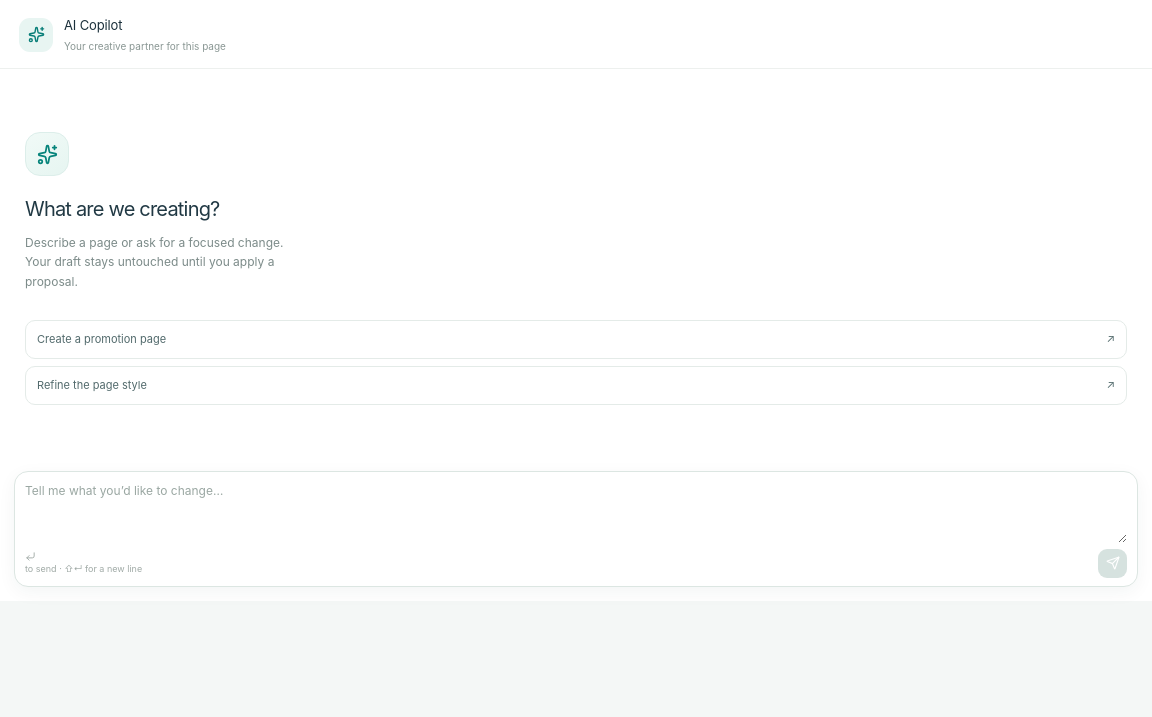
it: Copilot multi-request lifecycle › starts from the editor when a previous proposal was discarded=true
Type "First" into the text box named "Describe the page or change you want" at (576, 512), box [25,482,1127,542]
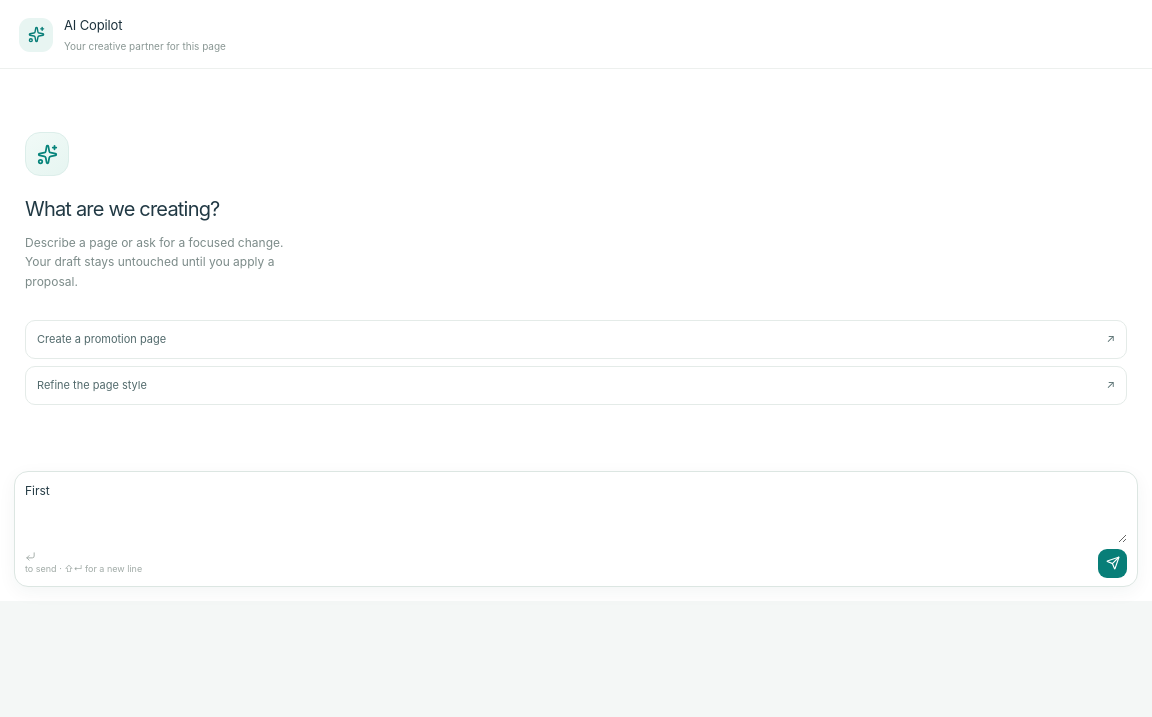
Click the button named "Send message" at (1112, 563), box [1098,548,1127,578]
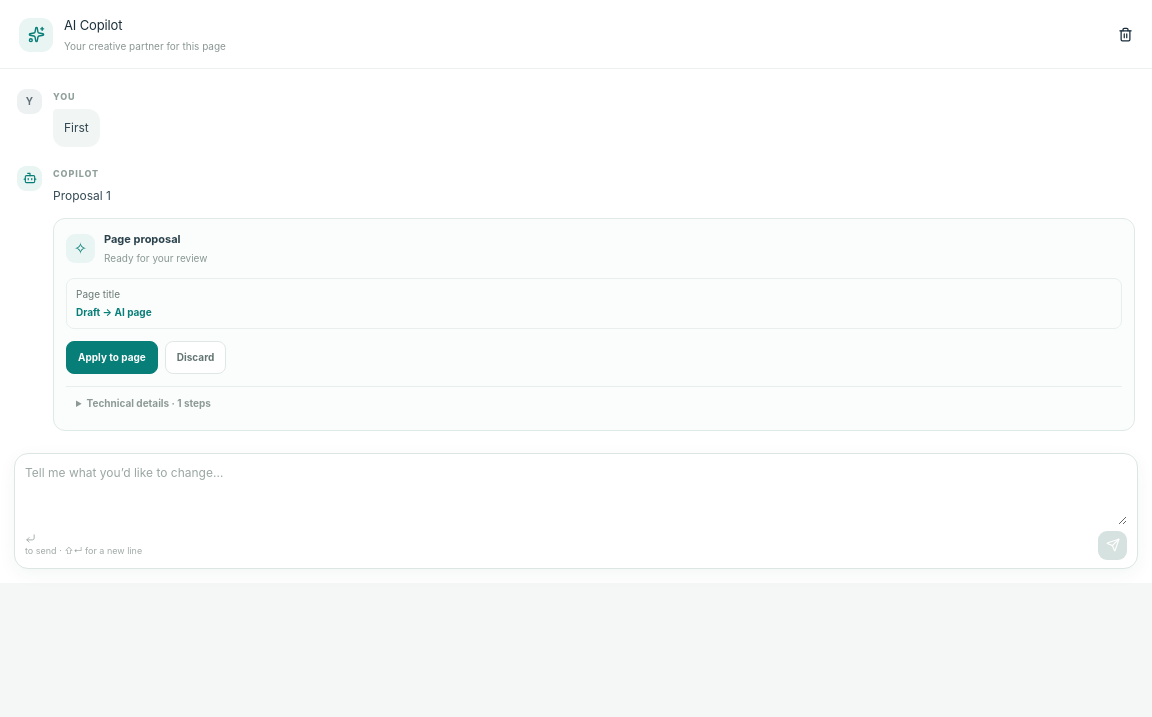
expect the text "Proposal 1" is shown: met, box [53,188,111,203]
Click the button "Discard" at (196, 357), box [165,341,226,374]
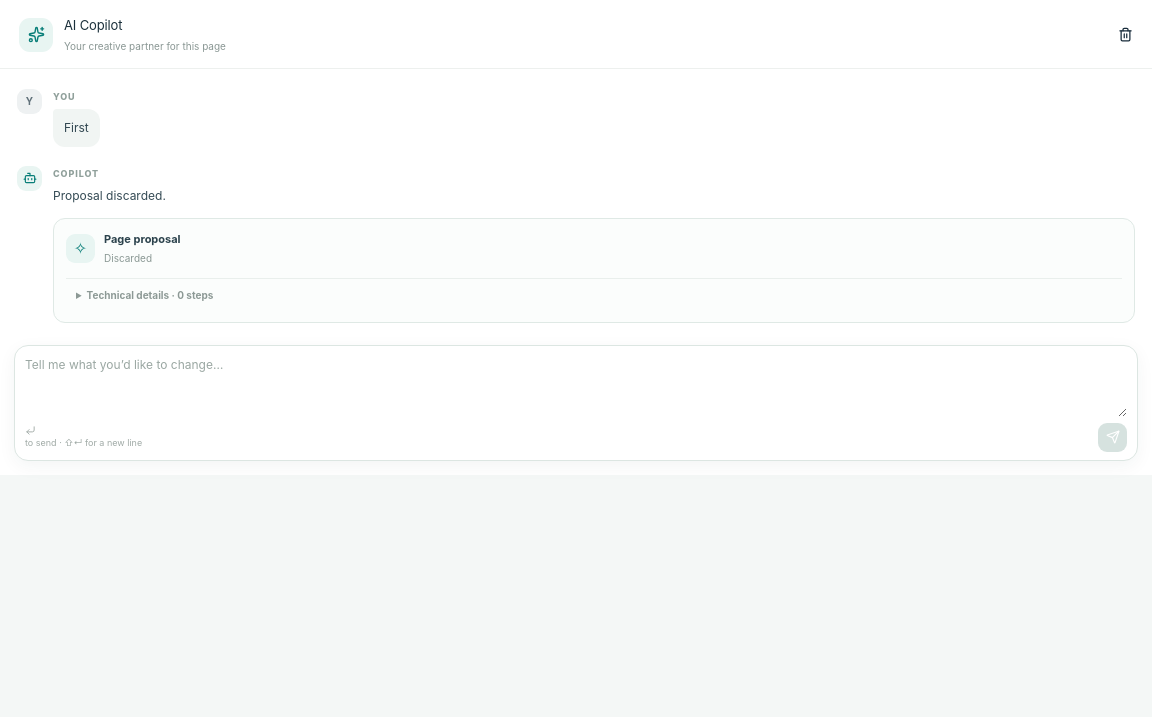
Type "Second" into the text box named "Describe the page or change you want" at (576, 386), box [25,356,1127,417]
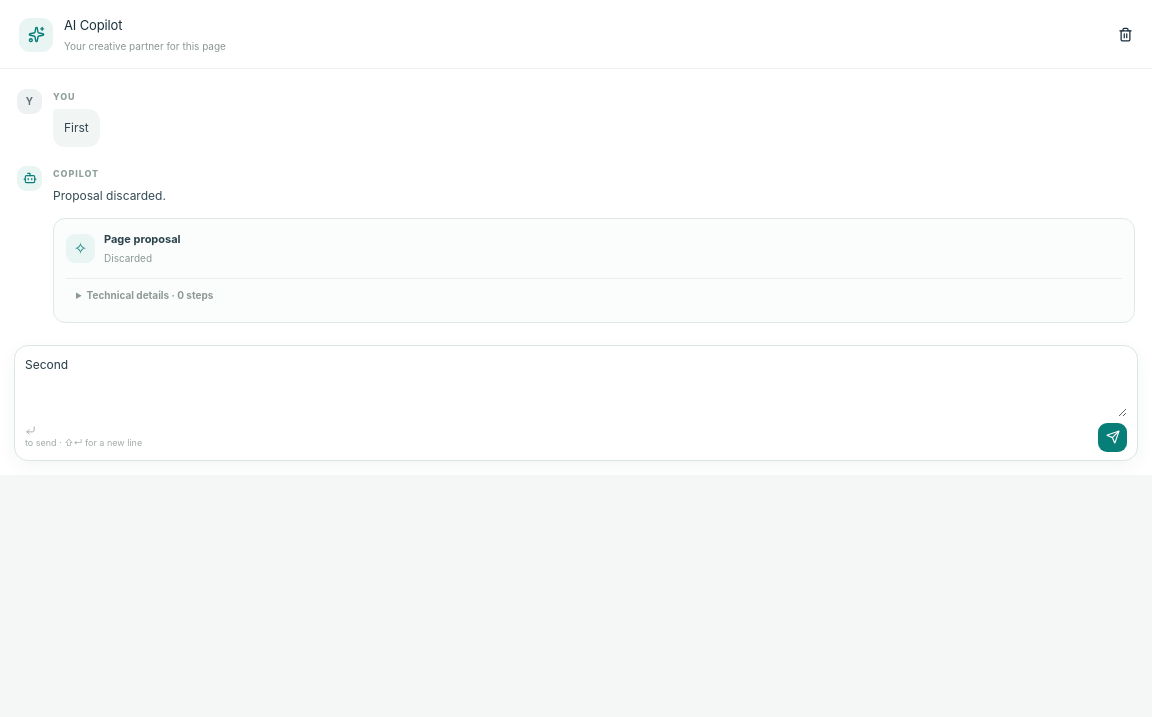
Click the button named "Send message" at (1112, 437), box [1098,423,1127,452]
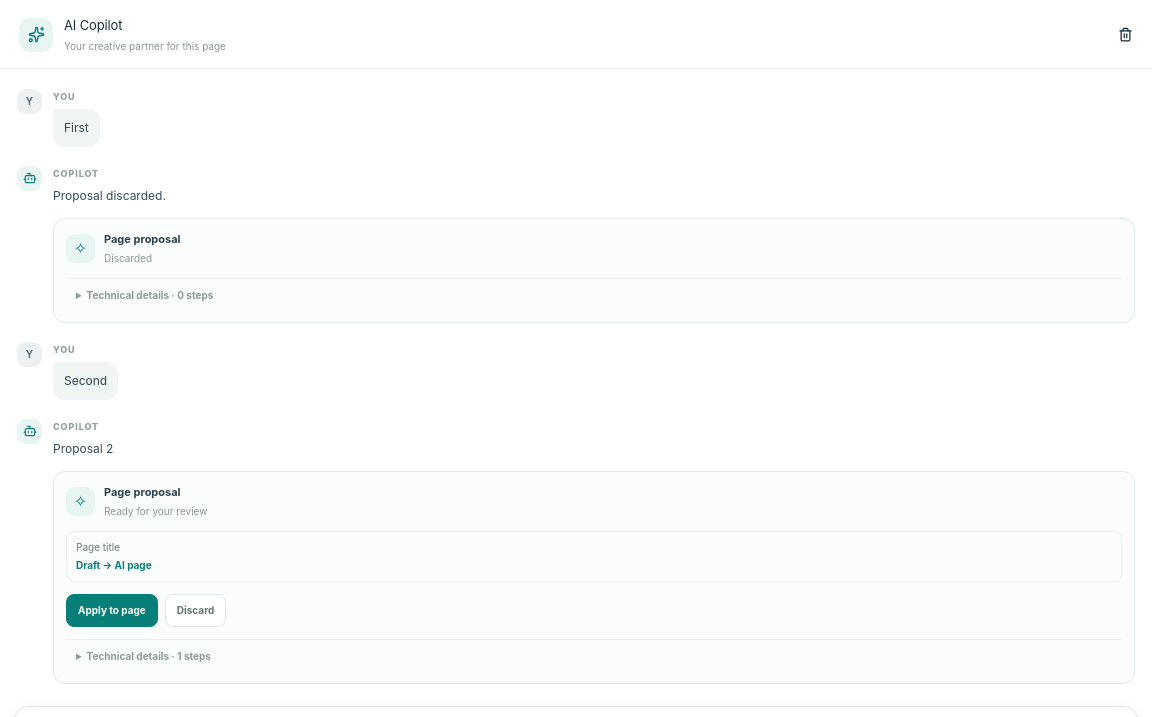
expect the text "Proposal 2" is shown once: met, box [53,441,113,456]
